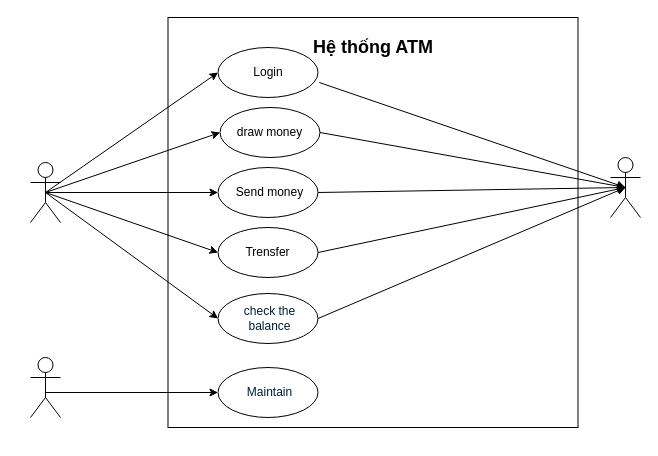
Image size: 658x456. Some labels were removed from this diagram. Here are the shapes that lost their labels. From the top down, the box of each, then its label:
(30, 162, 60, 222): Client
(610, 156, 640, 218): Bank
(30, 356, 60, 418): Technician
